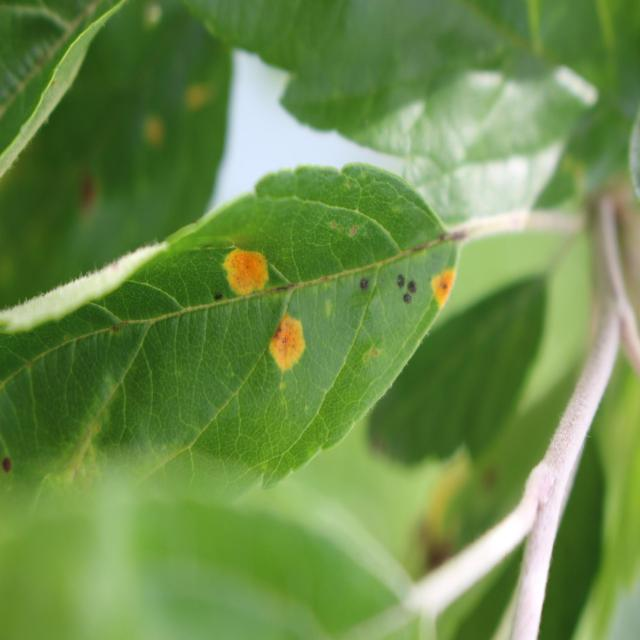Rust: (207, 223, 280, 306), (264, 309, 322, 384), (423, 250, 458, 330)
